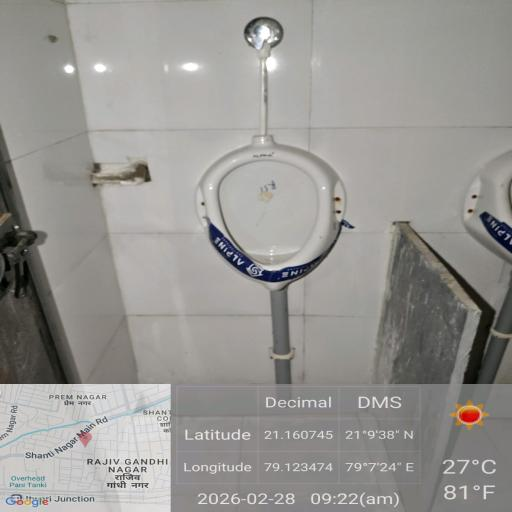clean_floor: (5, 5, 512, 140), (0, 140, 216, 364), (353, 160, 474, 389)
partial_dirty_urinal: (195, 156, 334, 285)
